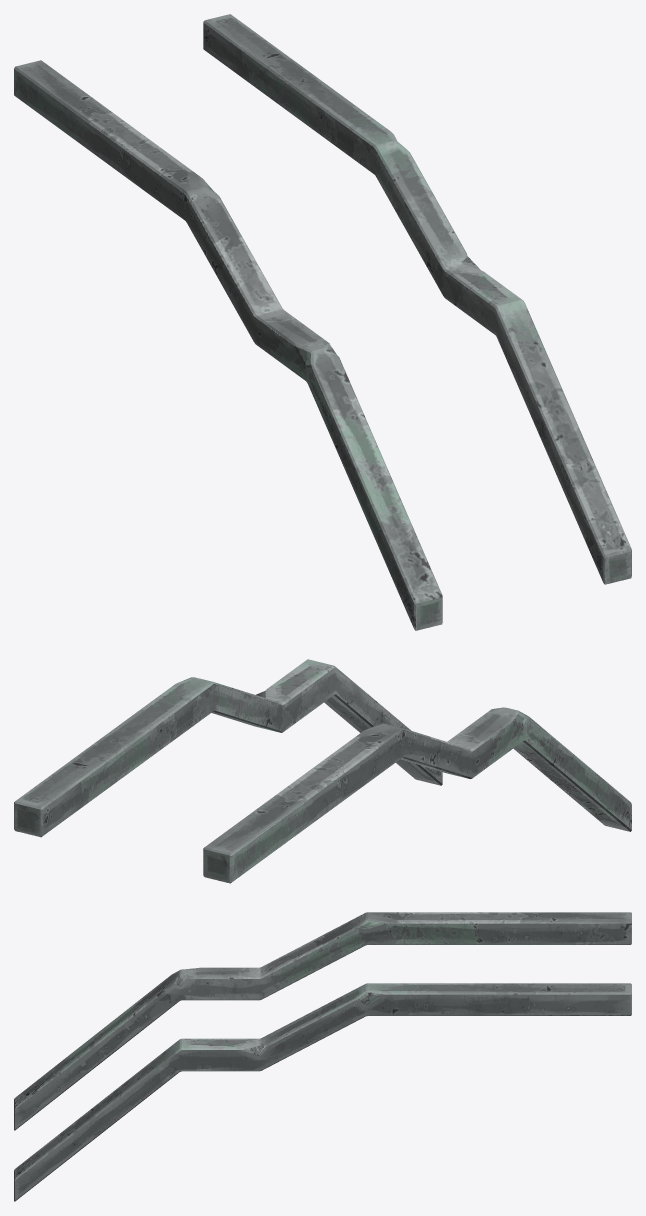
Rendered from road.fbx.
3 views of the same model, one above another, from view 1: azimuth 30°, elevation 25°; view 2: azimuth 150°, elevation 25°; view 3: azimuth 270°, elevation 25° (orthographic). The views are drawn at different scales.
Visible parts, largest first — view 1: road; view 2: road; view 3: road.
Boxes of the visible parts, box(x1,y1,x2,y2) form: road: box(14, 14, 631, 630); road: box(14, 659, 631, 883); road: box(14, 912, 631, 1201).
Size of the model in its own units: 1520 by 1810 by 4852.
